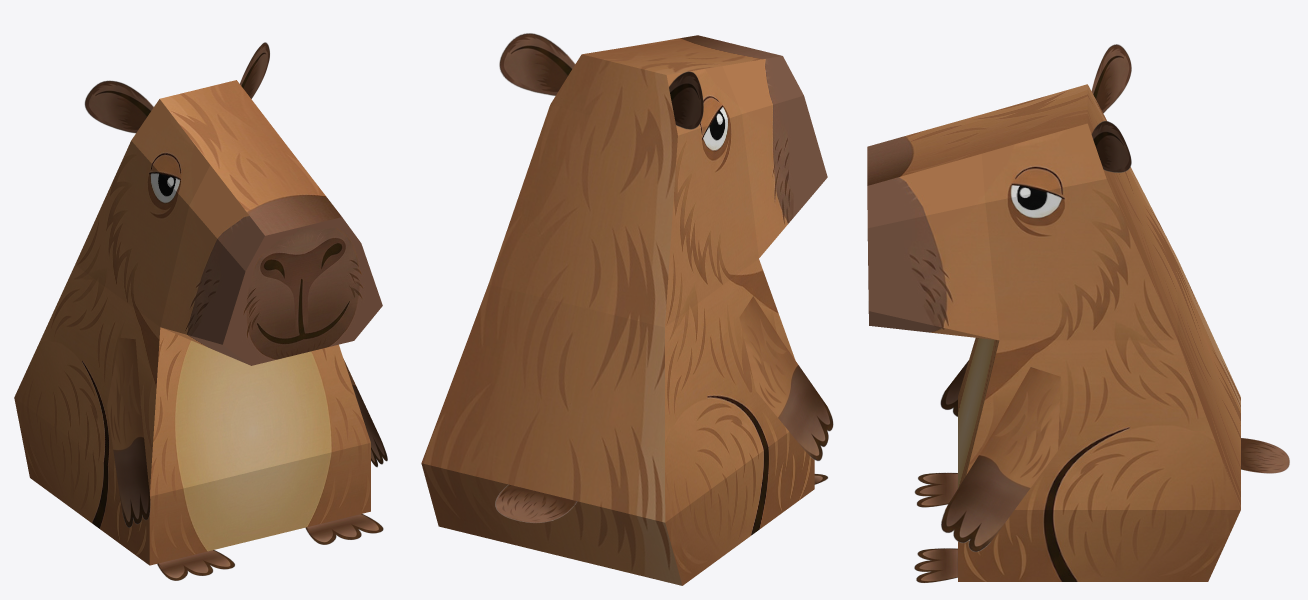
The model's file is Capibara-98ea16a7.glb.
3 views of the same model, side by side, from view 1: azimuth 30°, elevation 25°; view 2: azimuth 150°, elevation 25°; view 3: azimuth 270°, elevation 25° (orthographic). The views are drawn at different scales.
Parts seen in each view (by area): view 1: Capibara; view 2: Capibara; view 3: Capibara.
Part boxes in pixels (x1,y1,x2,y2): Capibara: [14, 42, 387, 580]; Capibara: [421, 33, 833, 585]; Capibara: [867, 44, 1289, 582].
Bounding box in the file's own units: 0.2234 × 0.3781 × 0.3157.
2 materials, 2 textured.
